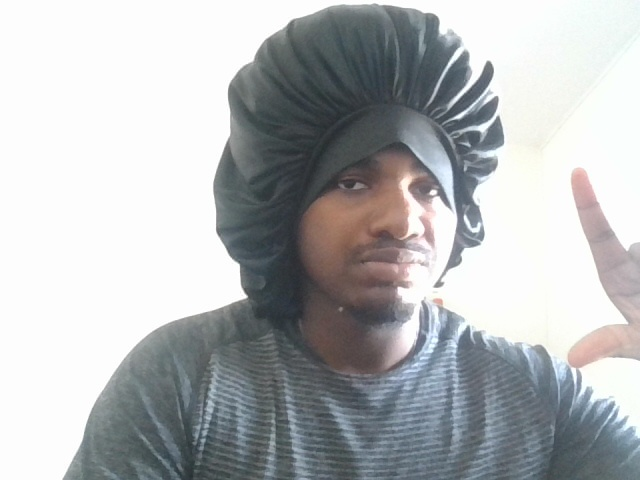I Love You: (523, 158, 640, 372)
